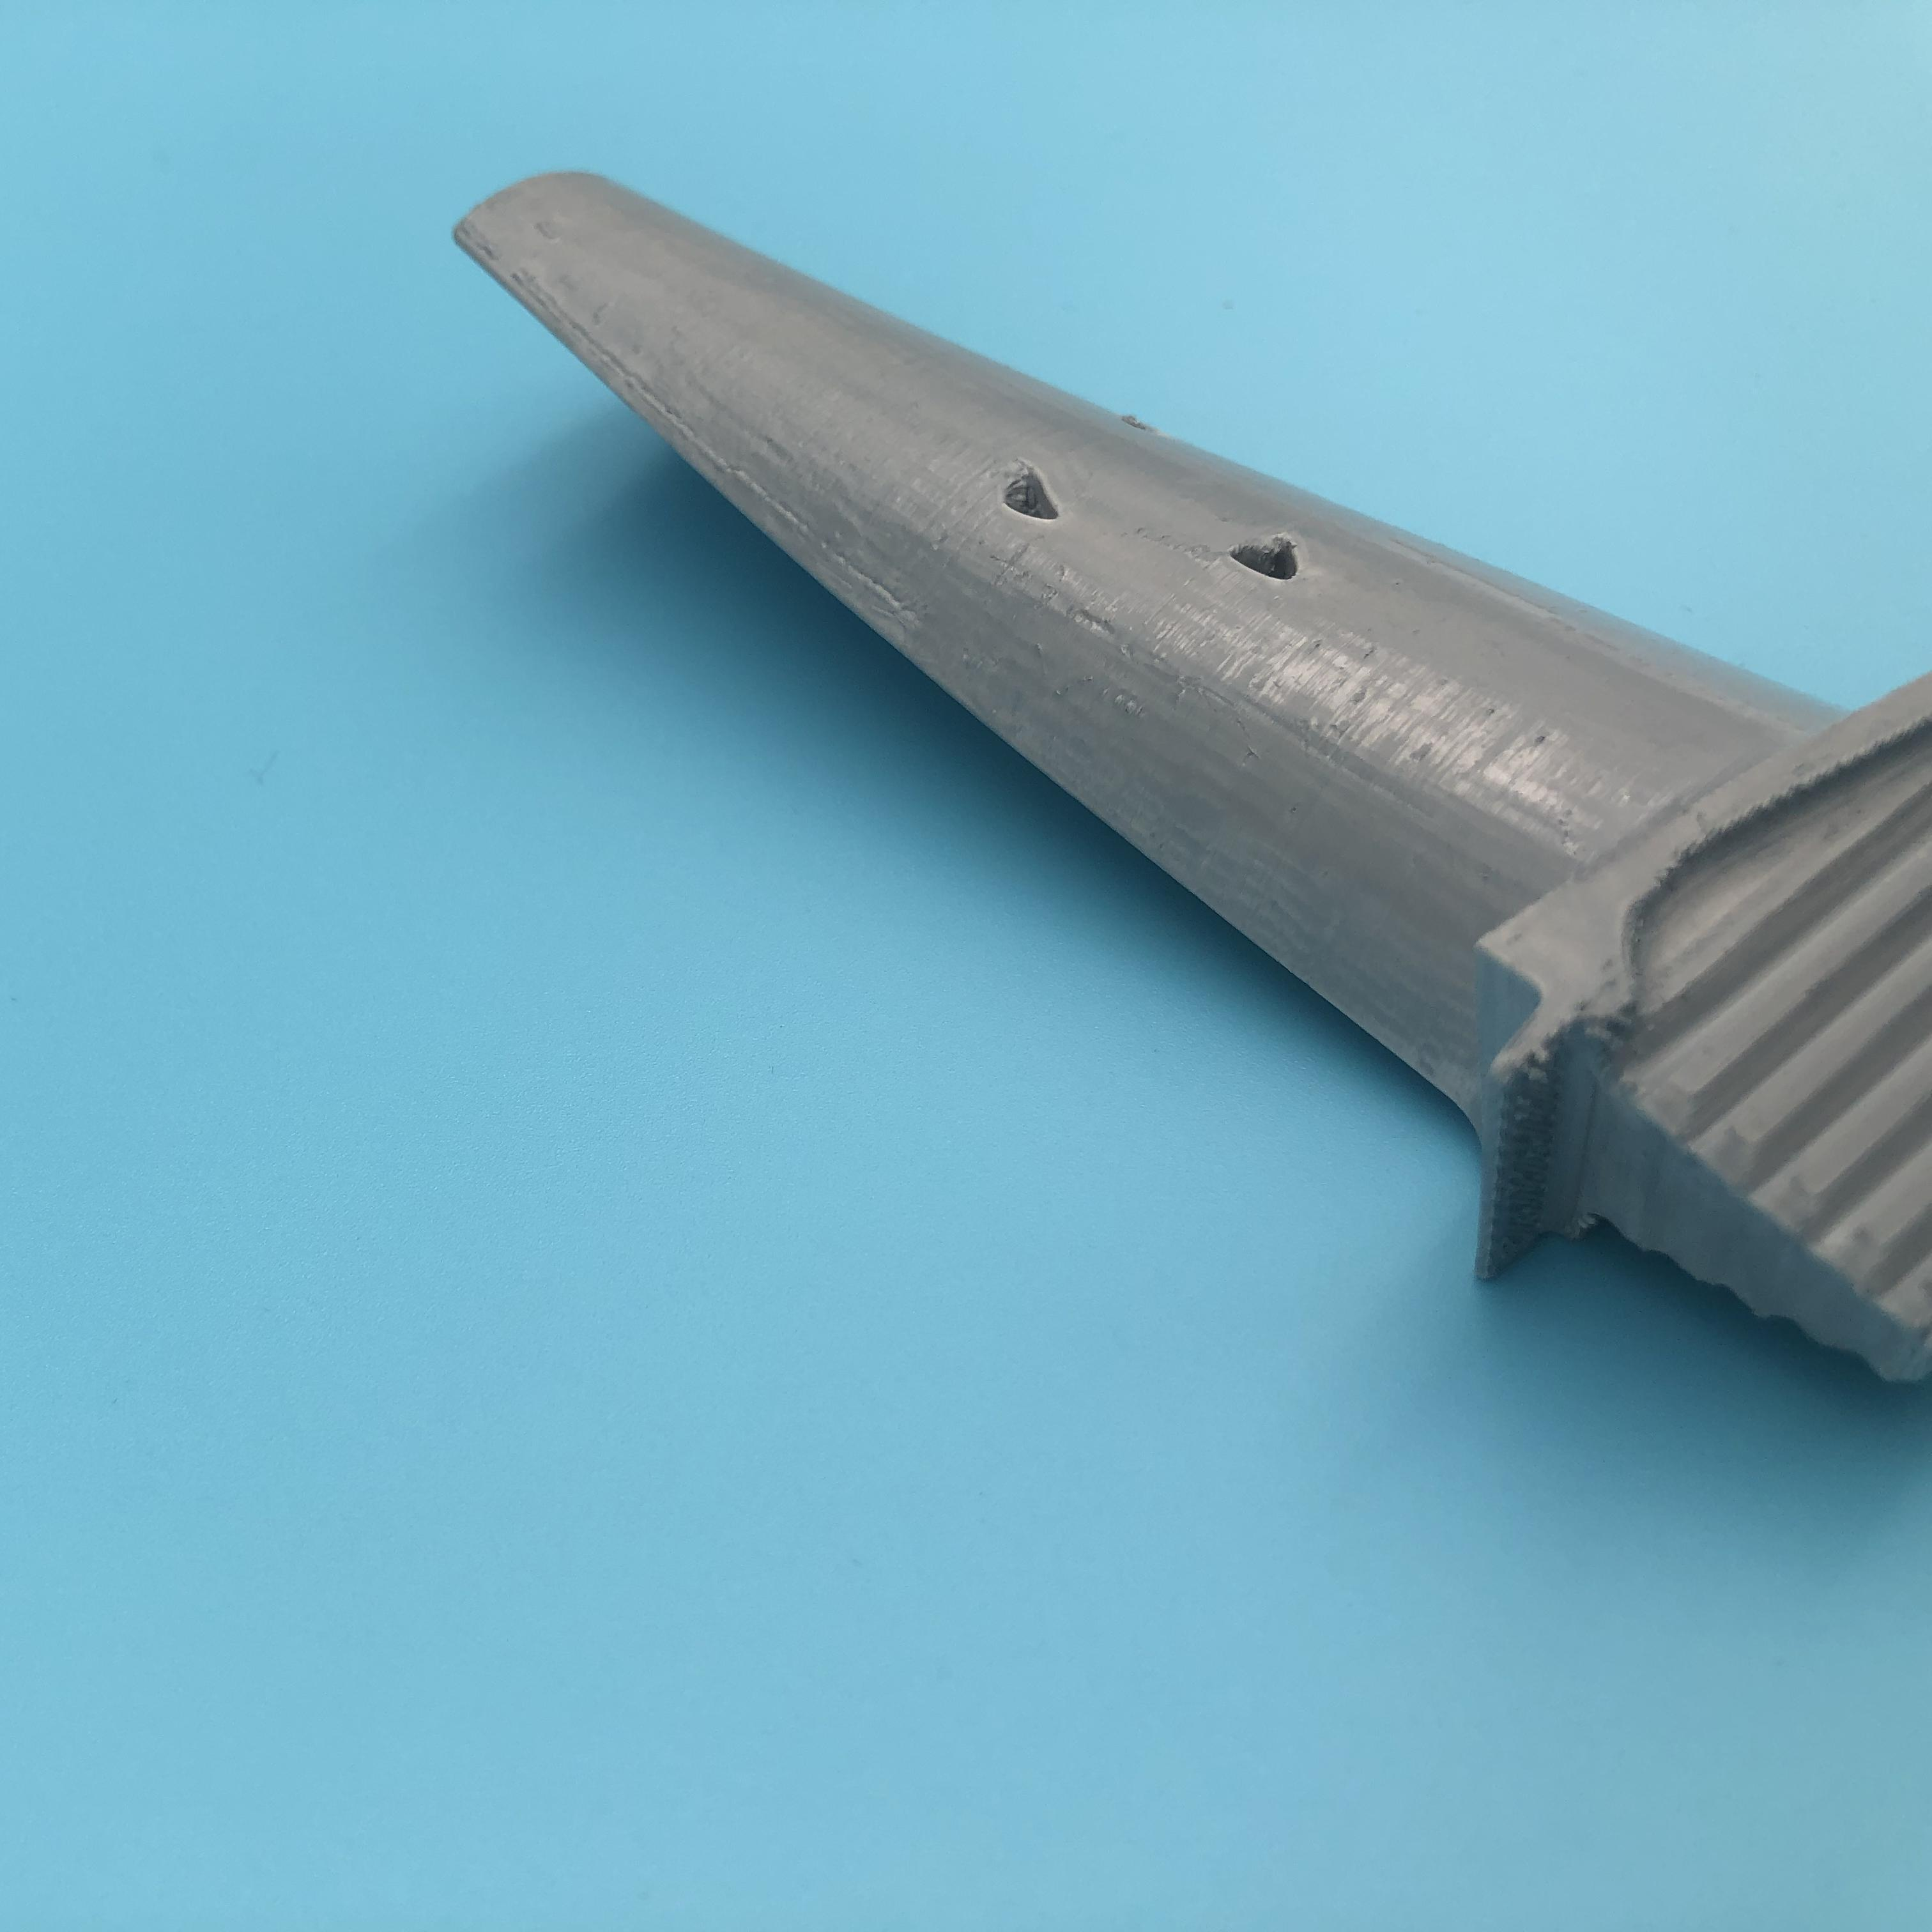breakdown: (998, 446, 1297, 593)
